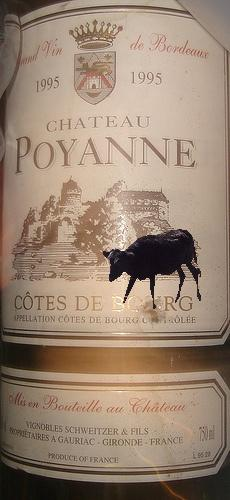tampered: (104, 230, 201, 309)
